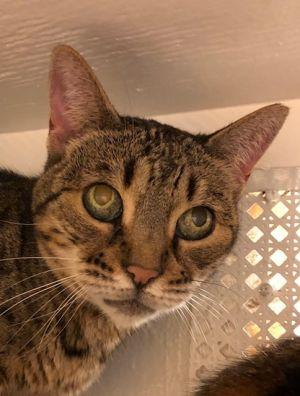bengal: (34, 24, 295, 346)
